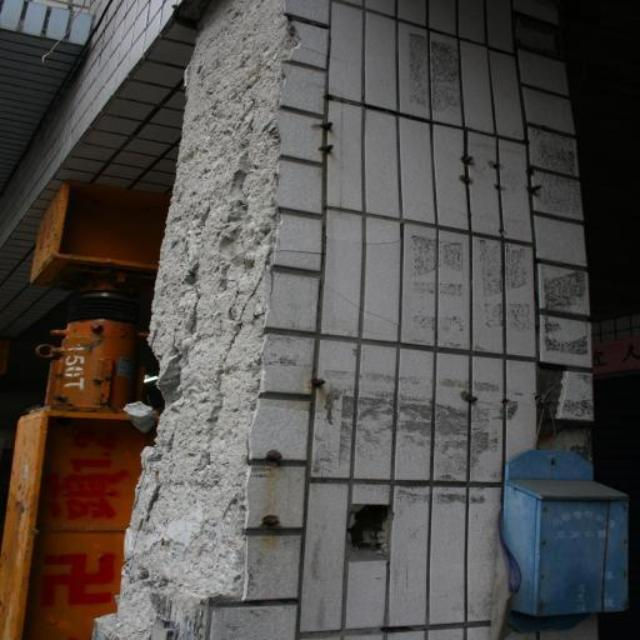D10: (122, 2, 289, 633)
